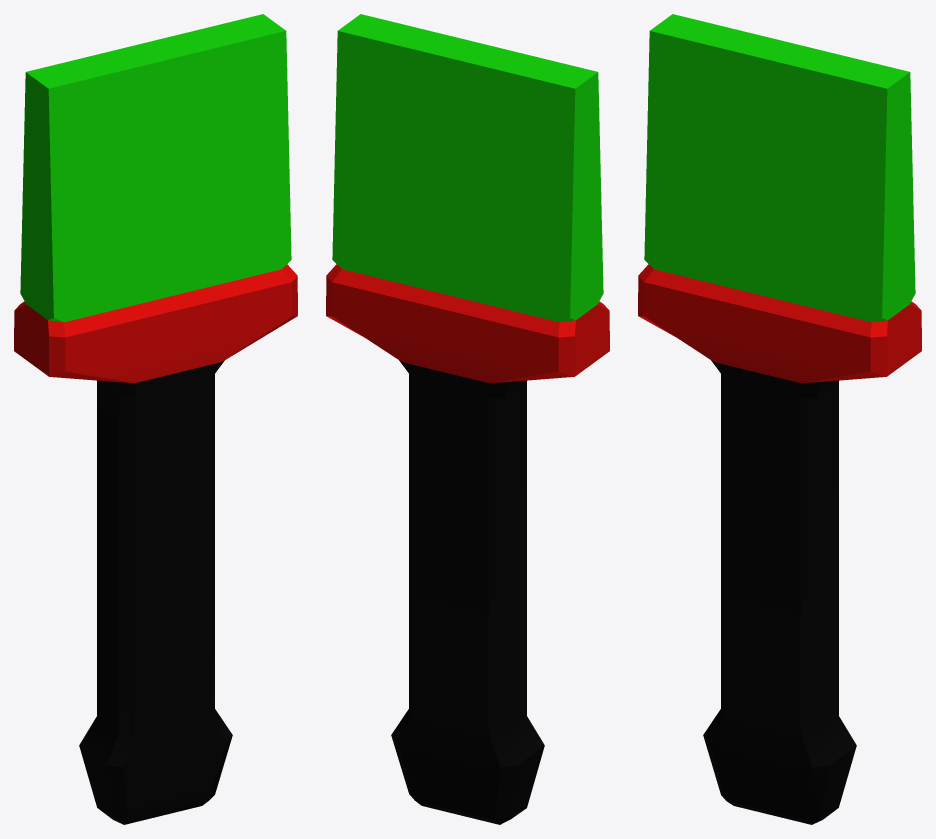
File: paintbrush.fbx
The picture shows the model from 3 angles, left to right: view 1: azimuth 30°, elevation 25°; view 2: azimuth 150°, elevation 25°; view 3: azimuth 330°, elevation 25°; orthographic projection.
Parts seen in each view (by area): view 1: paintbrush; view 2: paintbrush; view 3: paintbrush.
Part boxes in pixels (x1=…): paintbrush: x1=14, y1=14, x2=297, y2=824; paintbrush: x1=326, y1=14, x2=609, y2=824; paintbrush: x1=638, y1=14, x2=921, y2=824.
Bounding box in the file's own units: 9.77 × 28.46 × 3.09.
